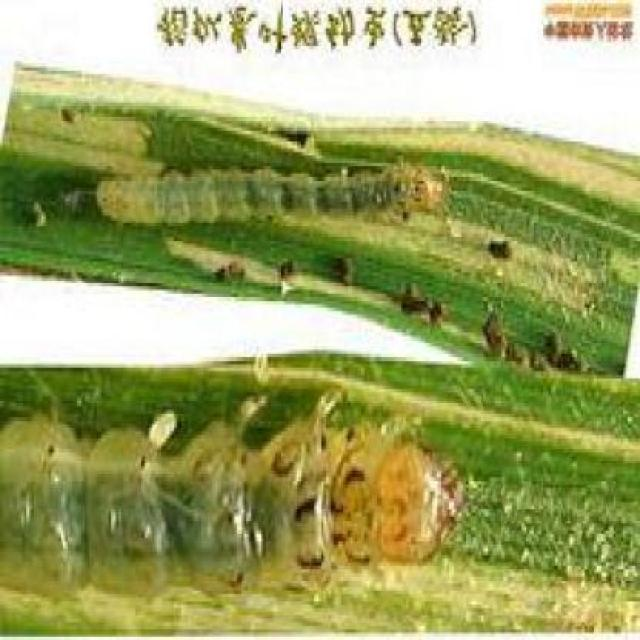leaf-folder: (0, 369, 452, 585), (62, 145, 460, 249)
